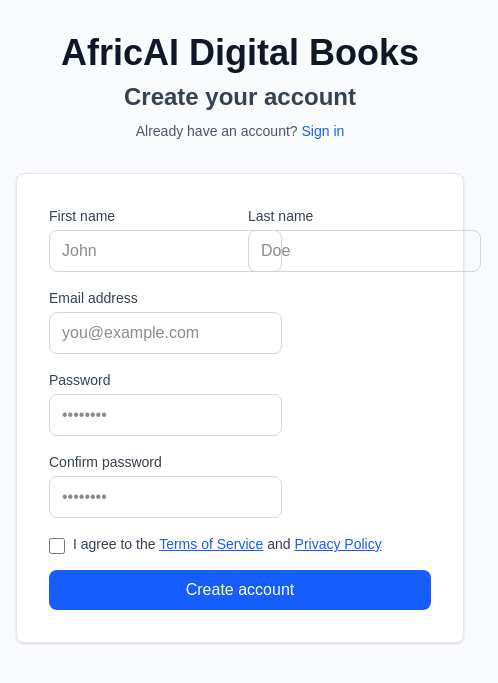
Test case: RegisterPage › Password Strength Indicator › shows password strength indicator when typing
The image size is (498, 683).
Step 1. Type "weak" into the password field labelled "Password" → [166, 415], box [49, 394, 282, 436]
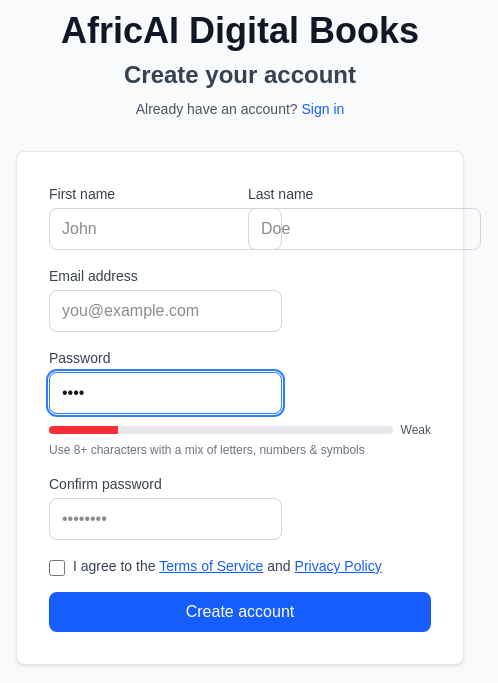
Now the text "Weak" is shown, box [400, 422, 431, 438]
